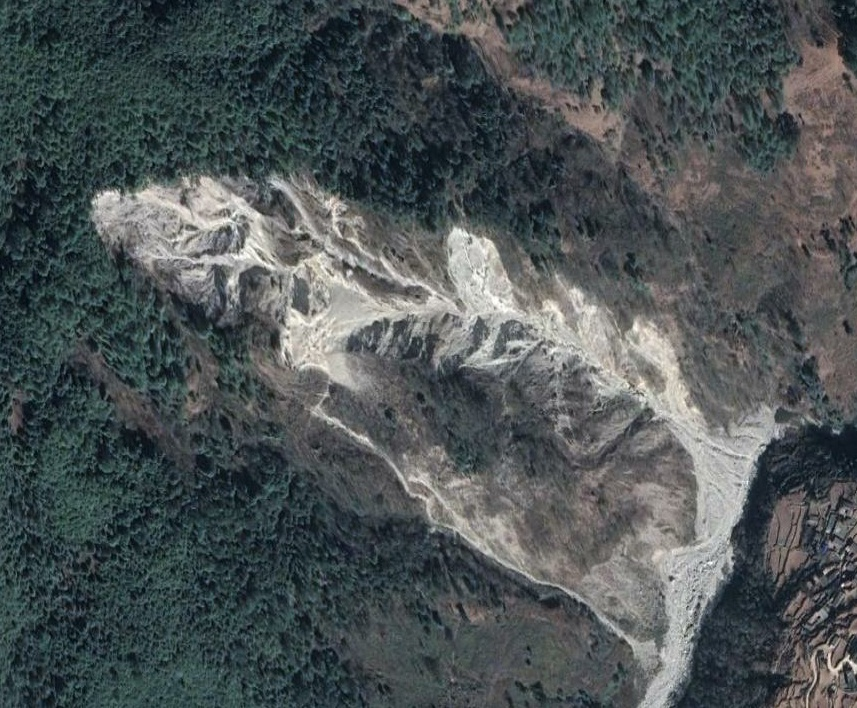slope: (88, 165, 800, 707)
